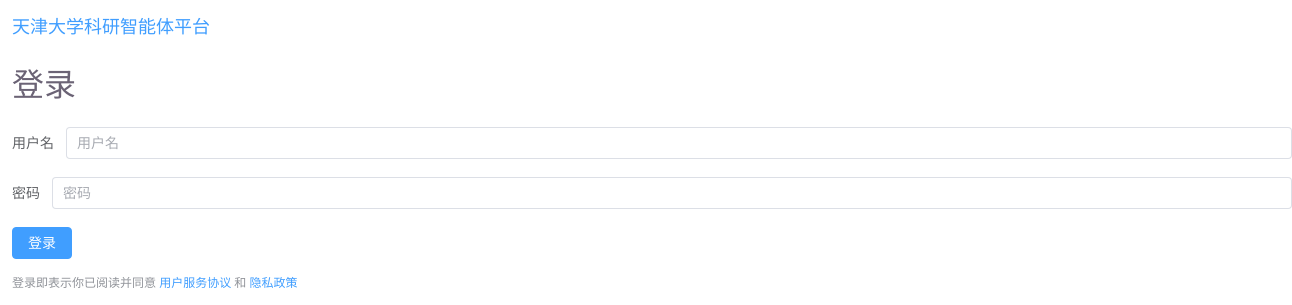
Test: LoginView › #419-2: 提交中按钮 loading/禁用，重复点击不重复提交
Type "alice" into the field with placeholder "用户名" at {"x": 679, "y": 143}, box 77,128 -> 1281,158
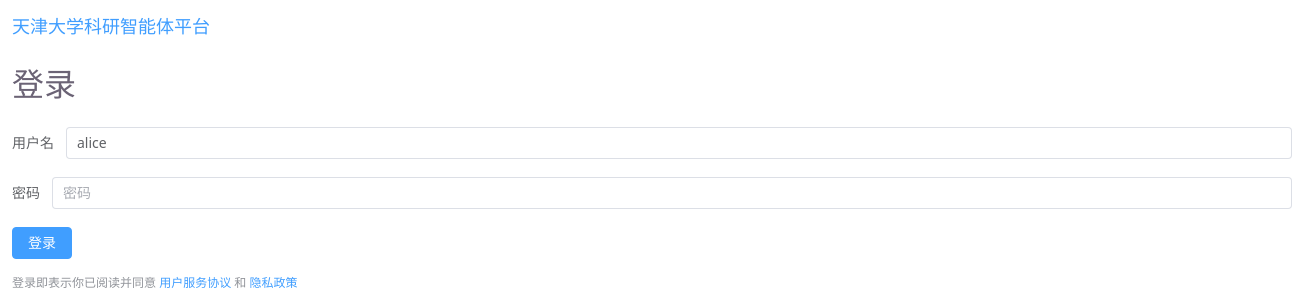
Type "pw123456" into the password field with placeholder "密码" at {"x": 672, "y": 193}, box 63,178 -> 1281,208
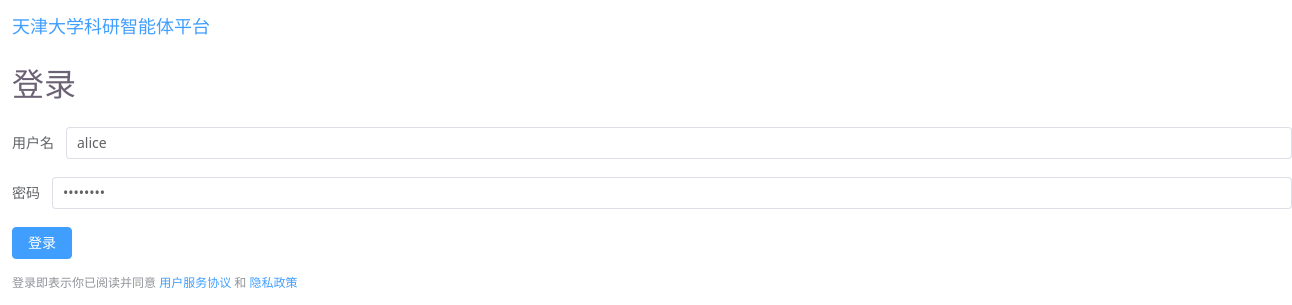
Click the button "登录" at {"x": 42, "y": 243}, box 12,227 -> 72,259
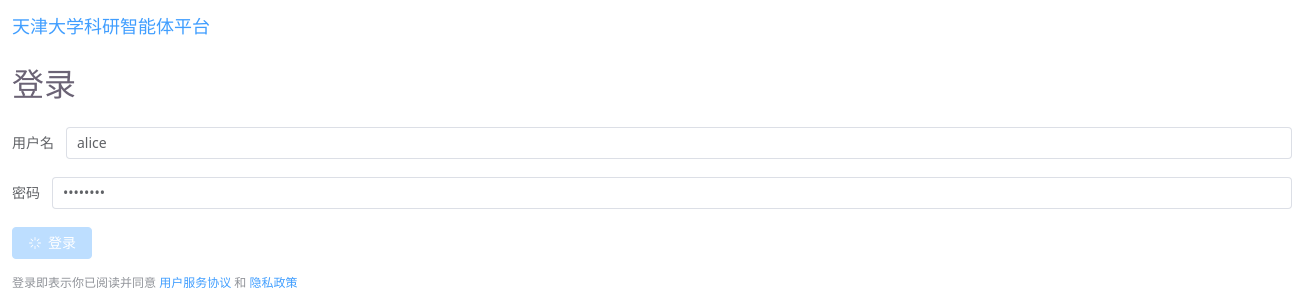
Click the button "登录" at {"x": 52, "y": 243}, box 12,227 -> 92,259
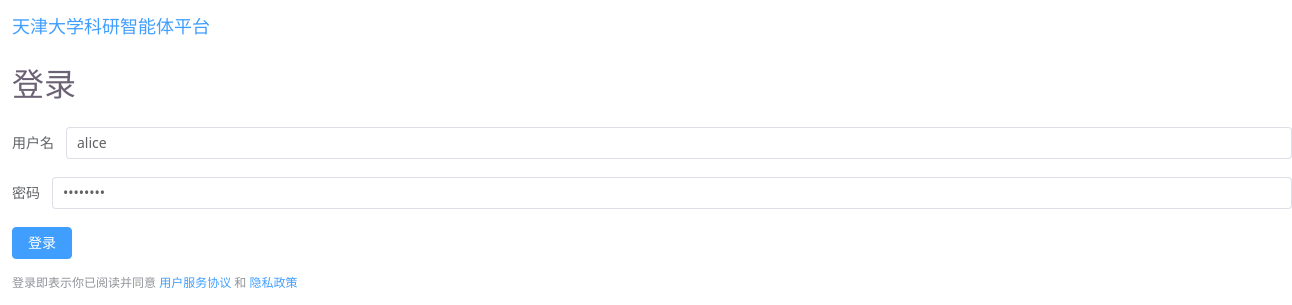
expect the button "登录" is enabled: met, box 12,227 -> 72,259
